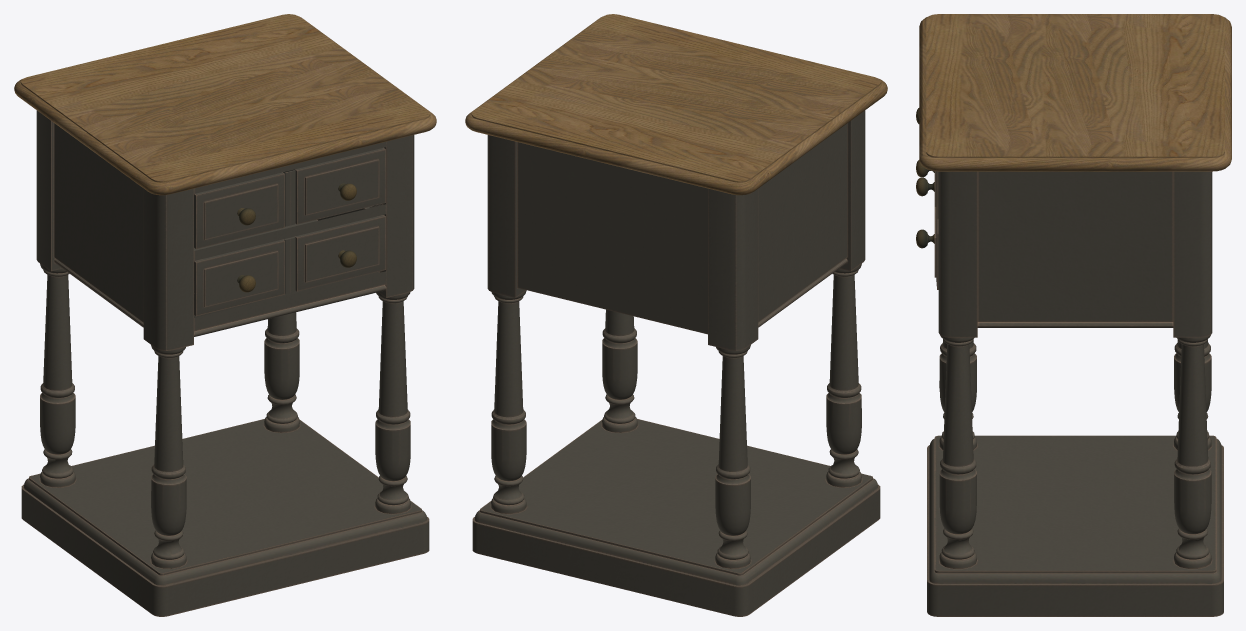
The model's file is example154.gltf.
The picture shows the model from 3 angles, left to right: view 1: azimuth 30°, elevation 25°; view 2: azimuth 150°, elevation 25°; view 3: azimuth 270°, elevation 25°; orthographic projection. The views are drawn at different scales.
Size of the model in its own units: 45 by 65 by 40.4.
3 materials, 3 textured.
